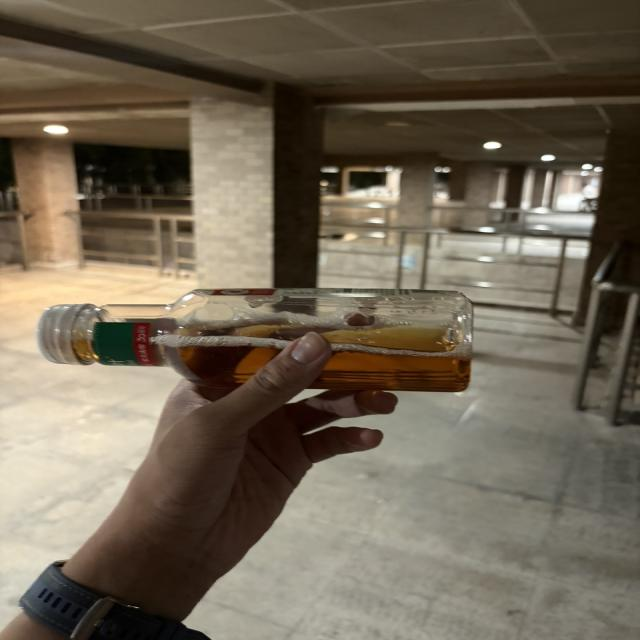medium: (37, 288, 471, 392)
